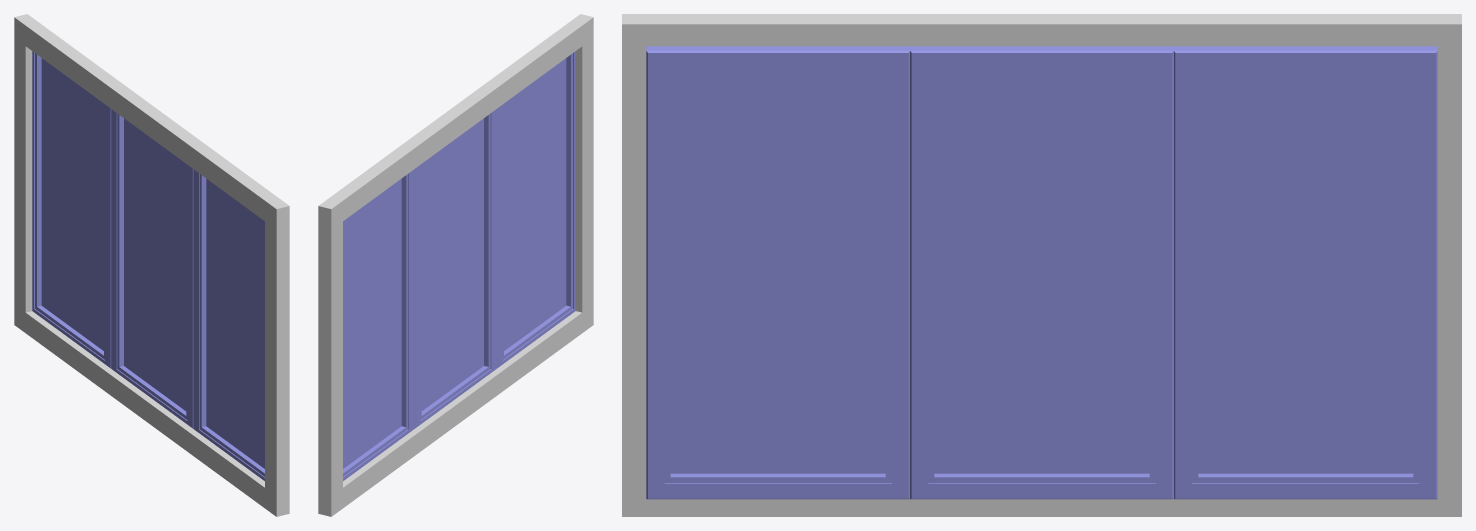
File: window313c.fbx
3 views of the same model, side by side, from view 1: azimuth 30°, elevation 25°; view 2: azimuth 150°, elevation 25°; view 3: azimuth 270°, elevation 25° (orthographic). The views are drawn at different scales.
Visible parts, largest first — view 1: Window.313c, Window Panel.011, Window Panel.010, Window Panel.012; view 2: Window.313c, Window Panel.011, Window Panel.012, Window Panel.010; view 3: Window Panel.010, Window Panel.011, Window Panel.012, Window.313c.
Boxes of the visible parts, x1,y1,x2,y2 form: Window.313c: (14, 14, 289, 516); Window Panel.011: (111, 109, 193, 428); Window Panel.010: (32, 51, 111, 368); Window Panel.012: (193, 169, 264, 480); Window.313c: (318, 14, 593, 516); Window Panel.011: (414, 109, 496, 428); Window Panel.012: (496, 51, 575, 368); Window Panel.010: (343, 169, 414, 480); Window Panel.010: (1174, 46, 1437, 499); Window Panel.011: (910, 46, 1173, 499); Window Panel.012: (646, 46, 909, 499); Window.313c: (622, 14, 1461, 516).
Size of the model in its own units: 9 by 134 by 207.
